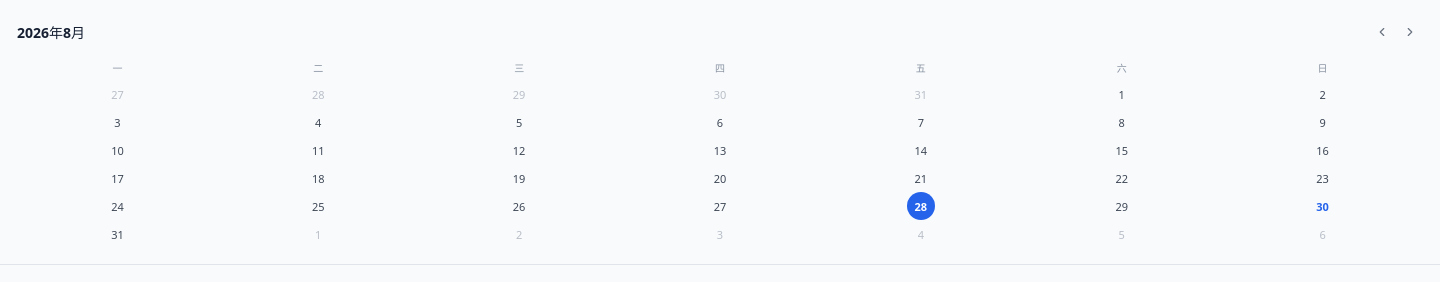
Test: 选择器失焦提交 › 迷你月历允许独立切换月份
The image size is (1440, 282).
Expected: the text "2026年8月" is shown, [17,22,85,42]
Click the button named "下个月": (1410, 32) [1397,19,1423,45]
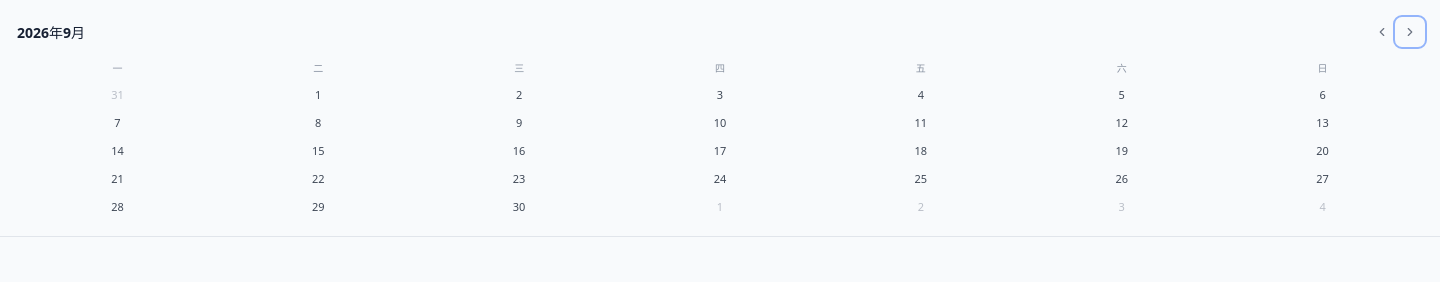
Result: the text "2026年9月" is shown at [17,22,85,42]
Click the button named "上个月": (1382, 32) [1369,19,1395,45]
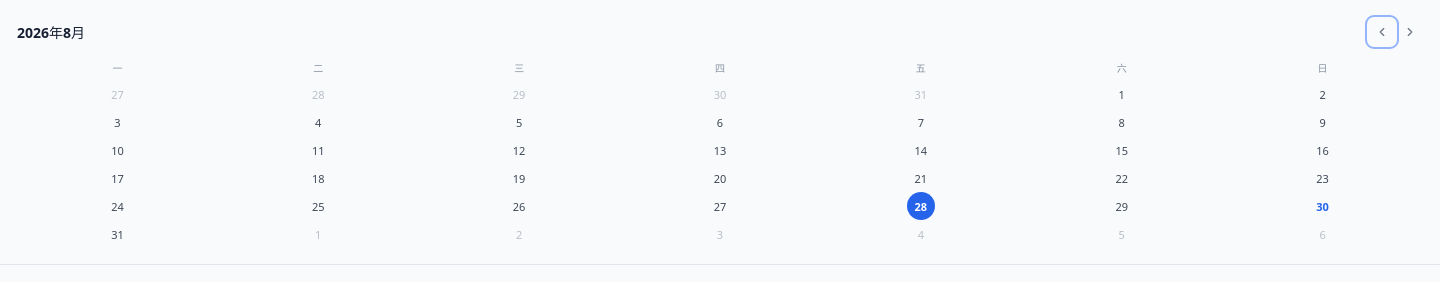
Result: the text "2026年8月" is shown at [17,22,85,42]
